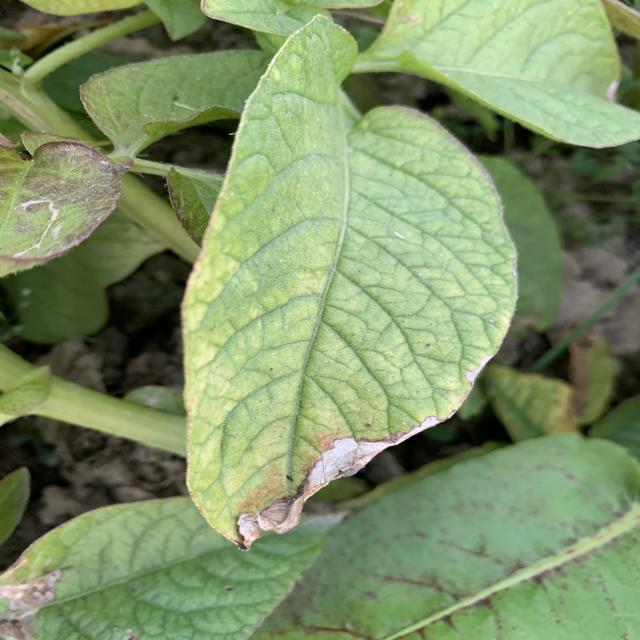lateblight: (237, 430, 418, 546)
